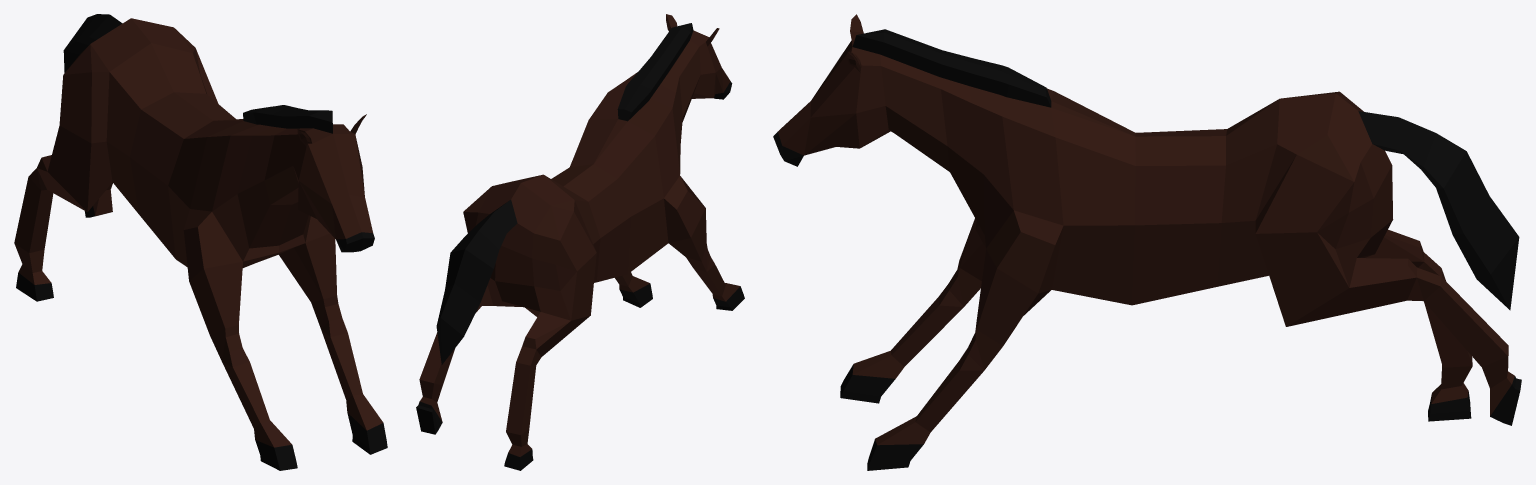
The model's file is Horse_000013.obj.
The picture shows the model from 3 angles, left to right: view 1: azimuth 30°, elevation 25°; view 2: azimuth 150°, elevation 25°; view 3: azimuth 270°, elevation 25°; orthographic projection. The views are drawn at different scales.
Parts seen in each view (by area): view 1: Horse_Cylinder; view 2: Horse_Cylinder; view 3: Horse_Cylinder.
Boxes of the visible parts, box(x1,y1,x2,y2) form: Horse_Cylinder: box(14, 14, 387, 470); Horse_Cylinder: box(416, 14, 744, 470); Horse_Cylinder: box(773, 14, 1521, 470).
Size of the model in its own units: 2.69 by 6.1 by 10.15.
